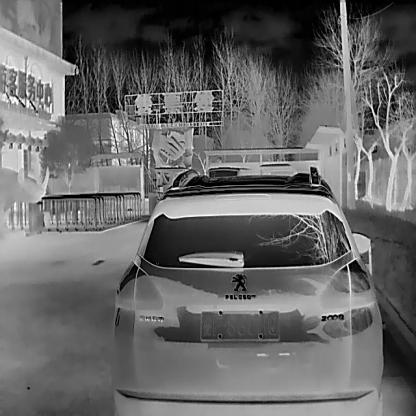bus: (206, 166, 252, 176), (257, 162, 294, 174)
car: (113, 166, 384, 415)
